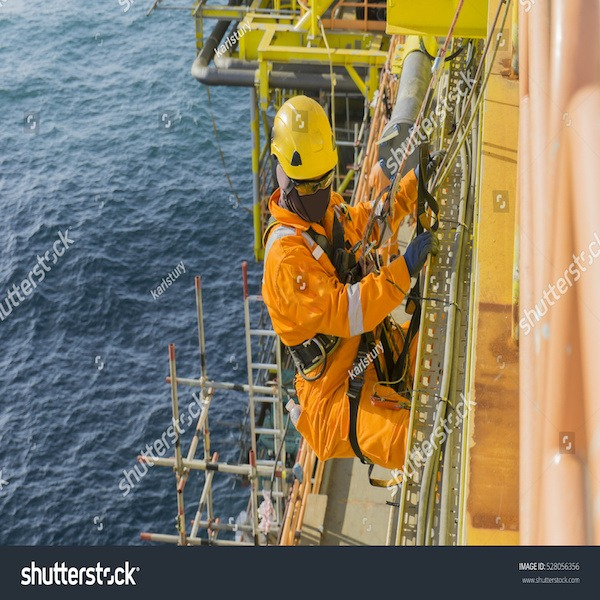helmet: (272, 91, 340, 182)
vest: (265, 208, 421, 455)
